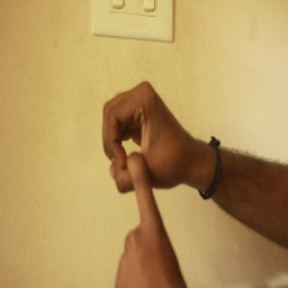Q: (87, 78, 194, 283)
